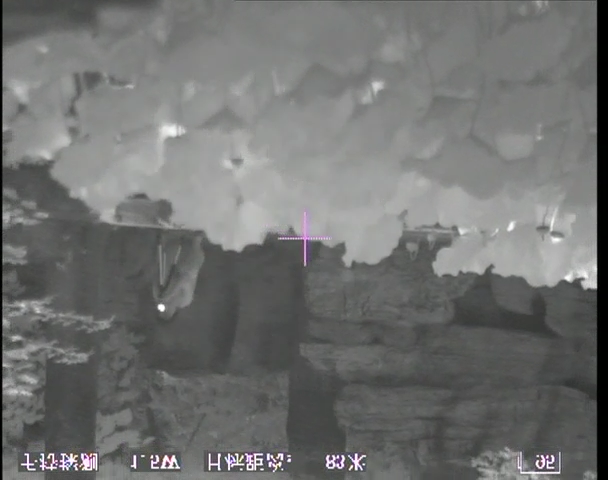my: (156, 302, 167, 314)
